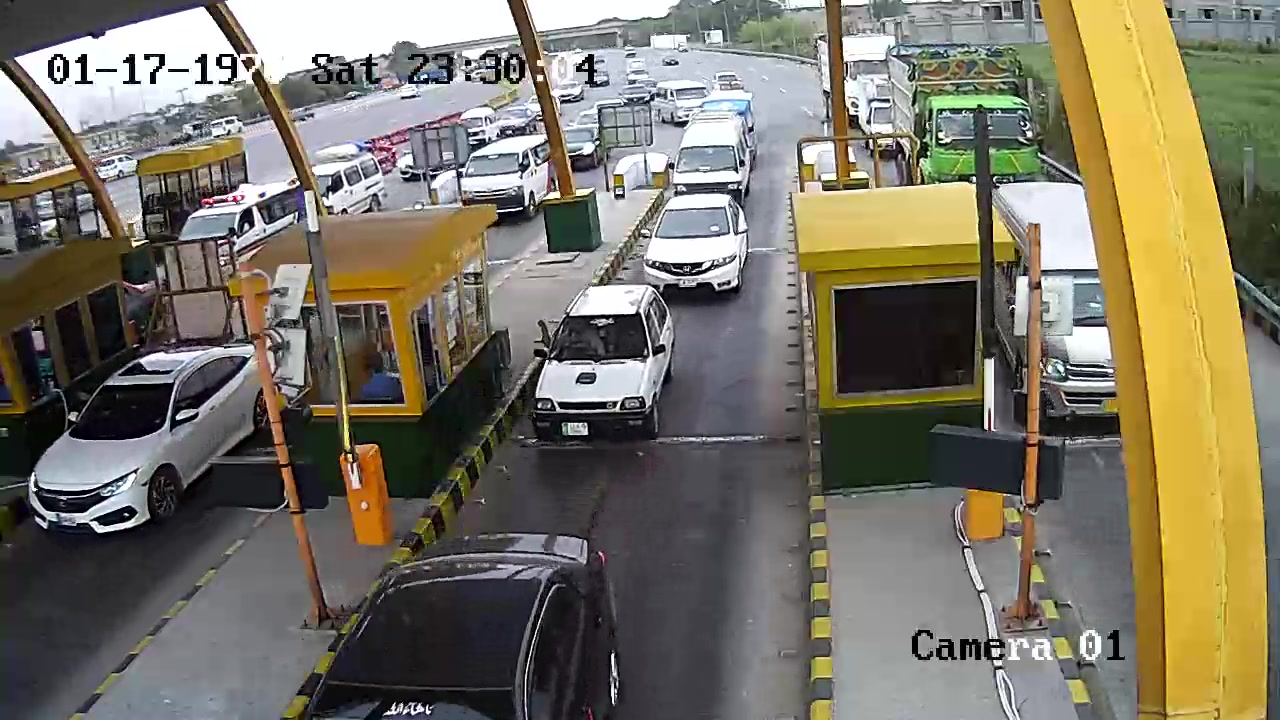F1: (520, 273, 693, 448)
